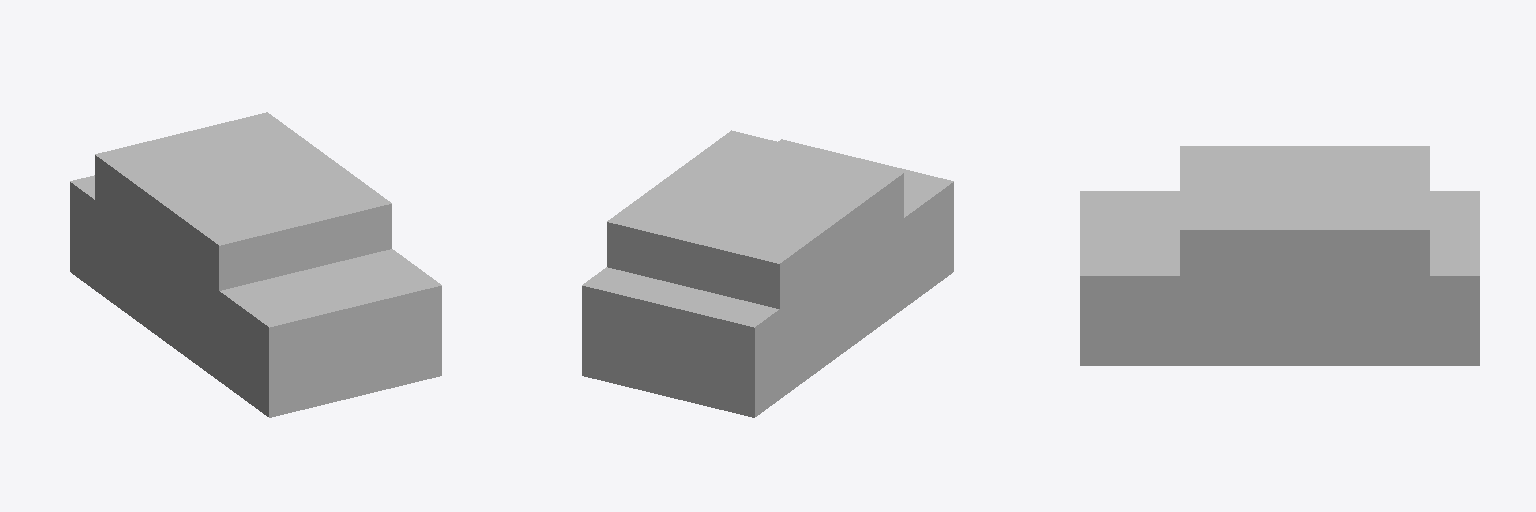
File: Carro.obj
3 renders of one model, left to right at view 1: azimuth 30°, elevation 25°; view 2: azimuth 150°, elevation 25°; view 3: azimuth 270°, elevation 25°, orthographic.
Visible parts, largest first — view 1: object 1; view 2: object 1; view 3: object 1.
Boxes of the visible parts, x1=… form: object 1: x1=70, y1=112, x2=441, y2=417; object 1: x1=582, y1=130, x2=953, y2=417; object 1: x1=1080, y1=146, x2=1479, y2=365.
Bounding box in the file's own units: 0.4 × 0.3 × 0.8.